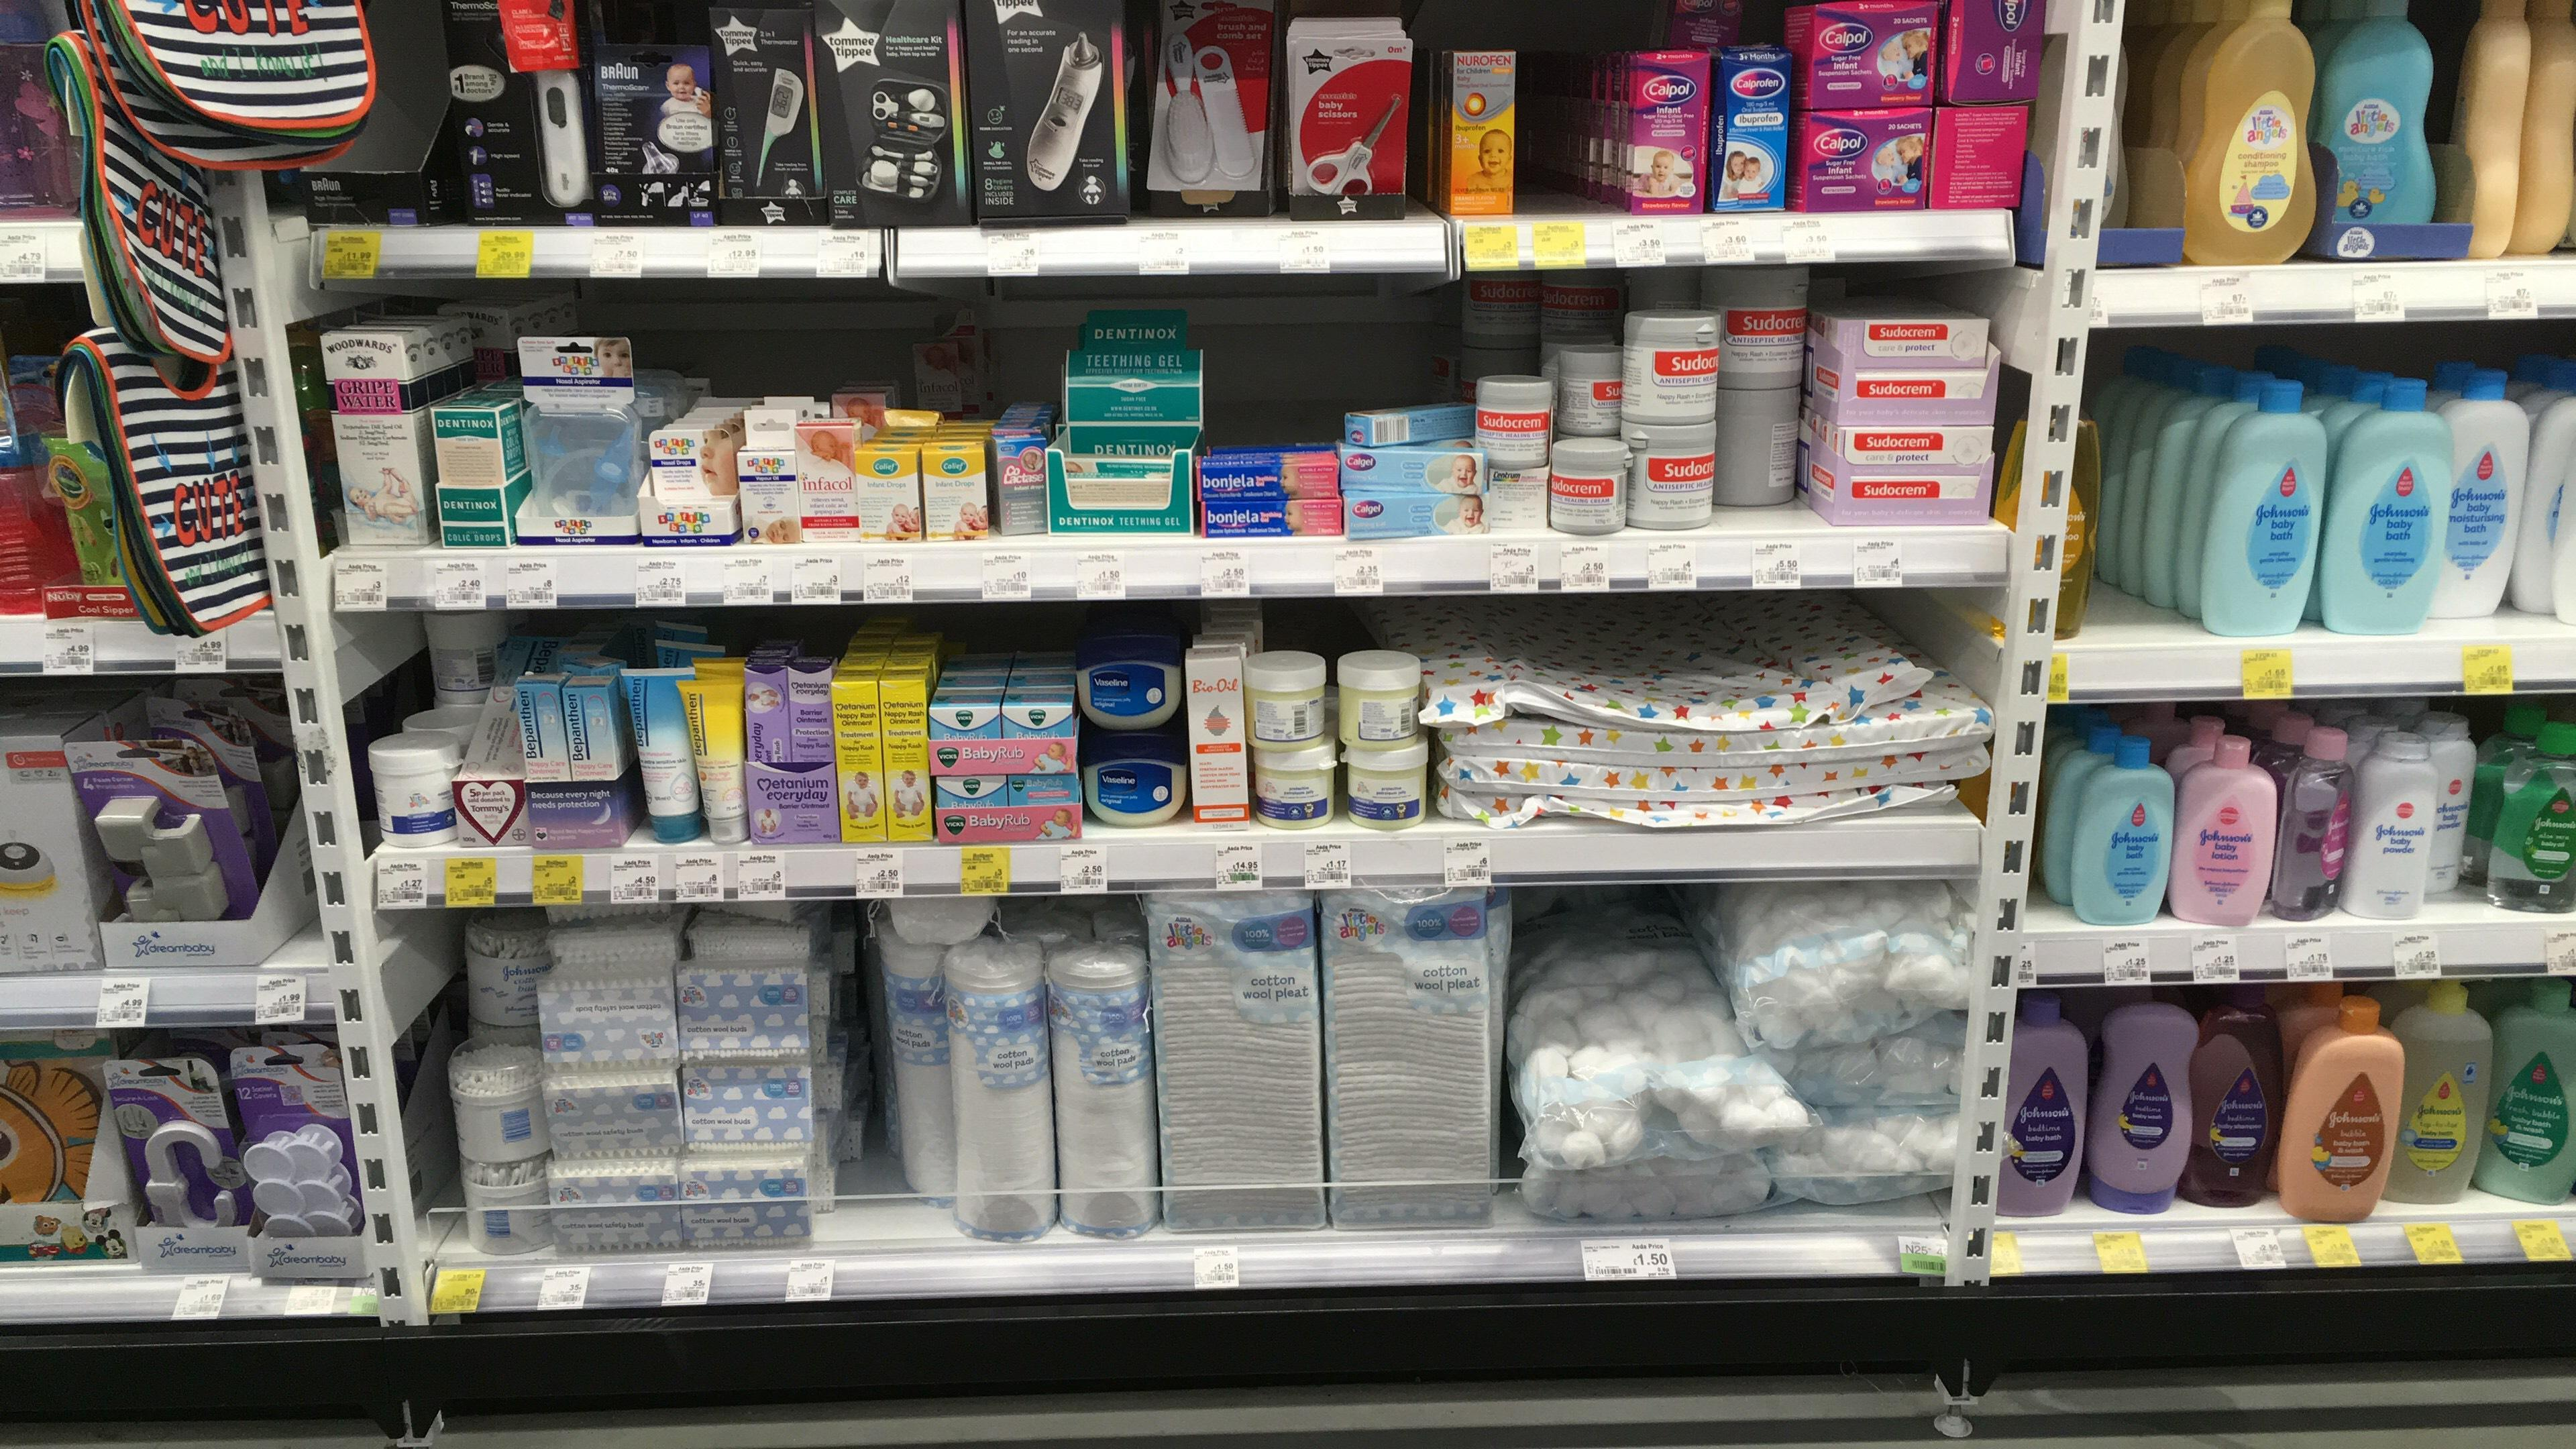misalignment: (1939, 0, 2038, 219), (1352, 387, 1474, 439)
